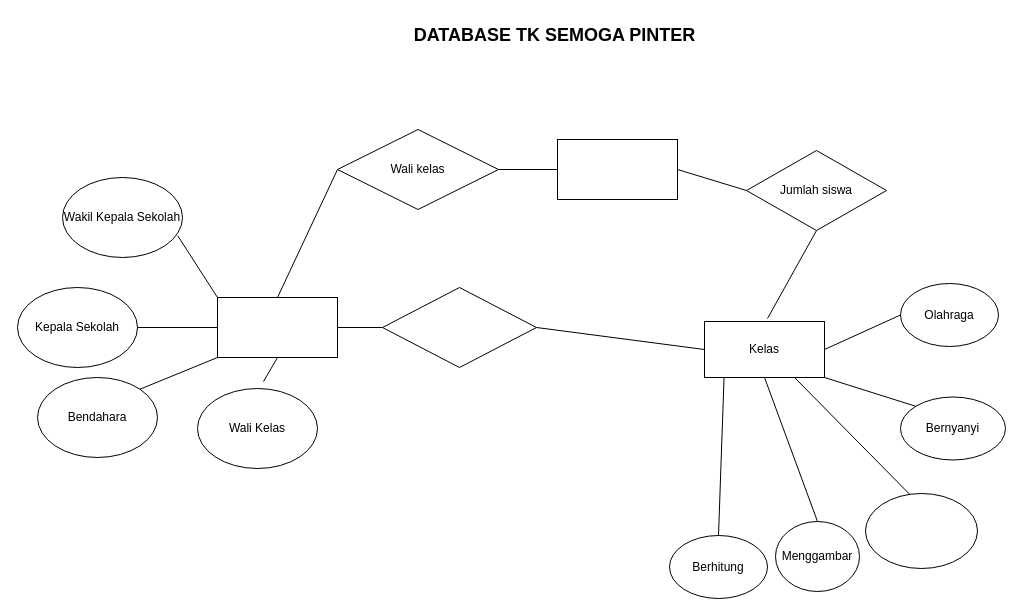
This 1023x616 diagram has some shape labels left out. The shapes that lost their labels are listed below. From the top down, each one's box as (x1, y1, x2, y2) in pixels, then its label:
(556, 138, 678, 200): Siswa
(216, 296, 338, 358): Guru
(382, 286, 536, 368): Mengajar
(864, 492, 978, 568): Membaca
